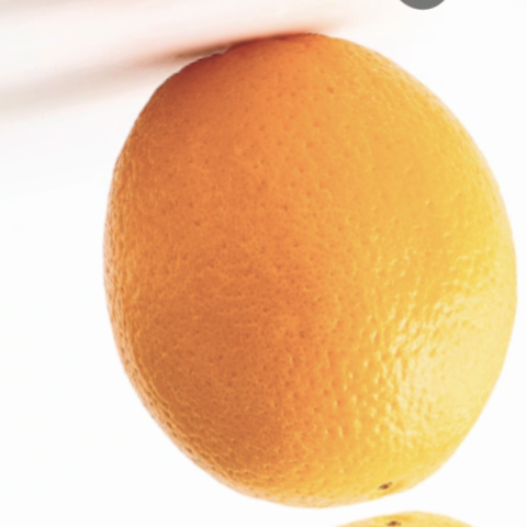orange: (7, 0, 527, 527)
